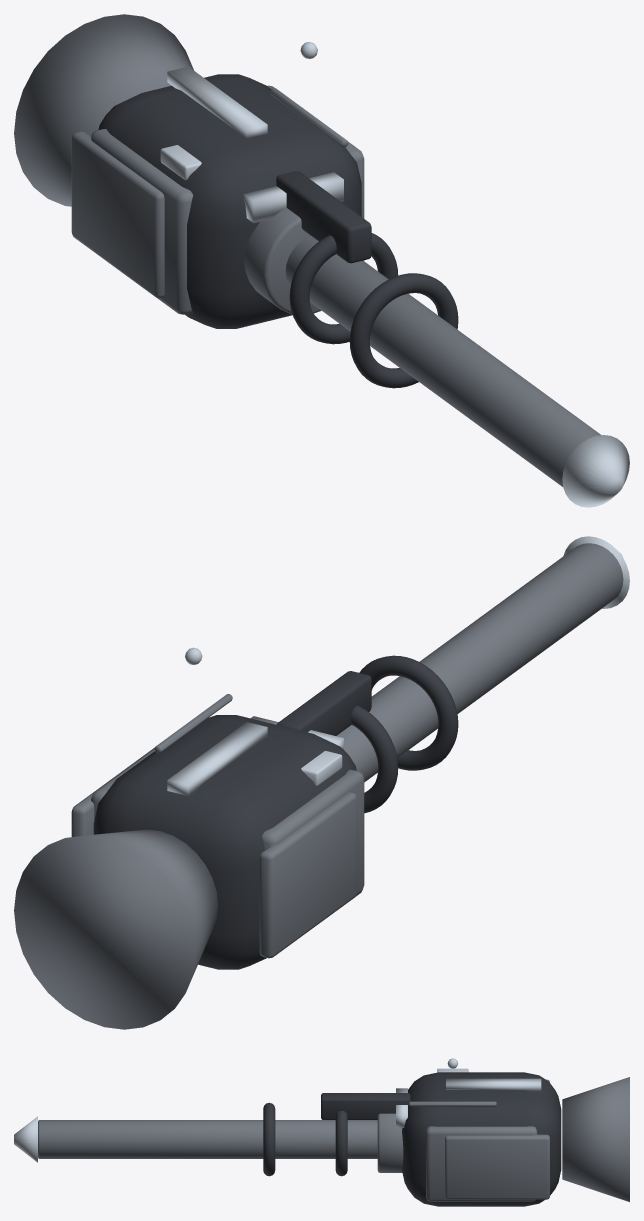
The model's file is weapon_drone_flame_lance.glb.
3 renders of one model, top to bottom at view 1: azimuth 30°, elevation 25°; view 2: azimuth 150°, elevation 25°; view 3: azimuth 270°, elevation 25°, orthographic. The views are drawn at different scales.
Parts seen in each view (by area): view 1: weapon_drone_flame_lance; view 2: weapon_drone_flame_lance; view 3: weapon_drone_flame_lance.
Part boxes in pixels (x1,y1,x2,y2): weapon_drone_flame_lance: (14, 14, 629, 507); weapon_drone_flame_lance: (14, 536, 629, 1029); weapon_drone_flame_lance: (14, 1058, 629, 1206).
Size of the model in its own units: 0.5808 by 0.7068 by 2.55.
